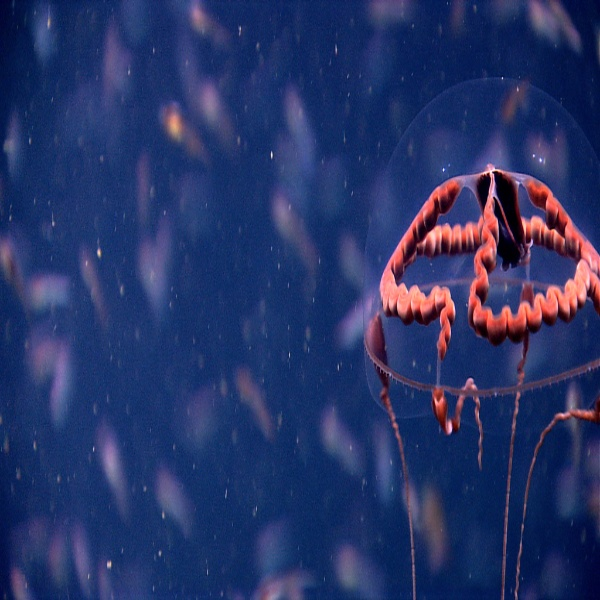Jellyfish: (359, 70, 599, 598)
